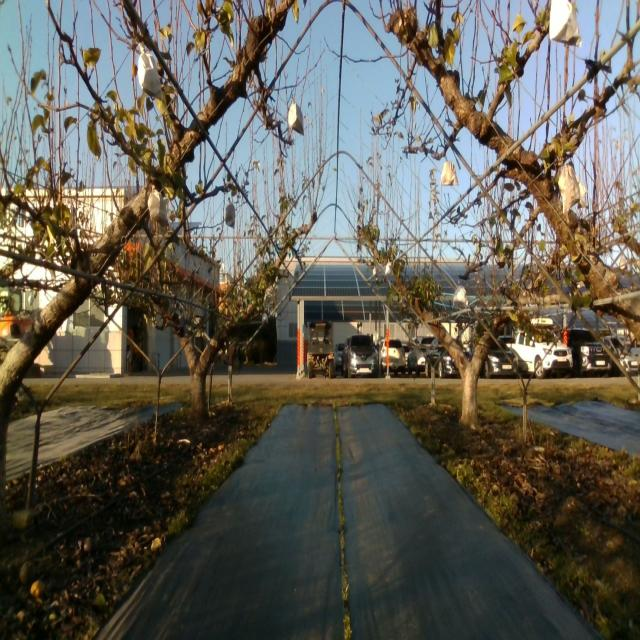pearbags: (548, 0, 581, 49), (137, 41, 162, 102), (558, 165, 586, 212), (147, 184, 168, 226), (288, 94, 305, 134), (440, 157, 459, 186), (452, 279, 468, 308), (225, 197, 236, 228)
